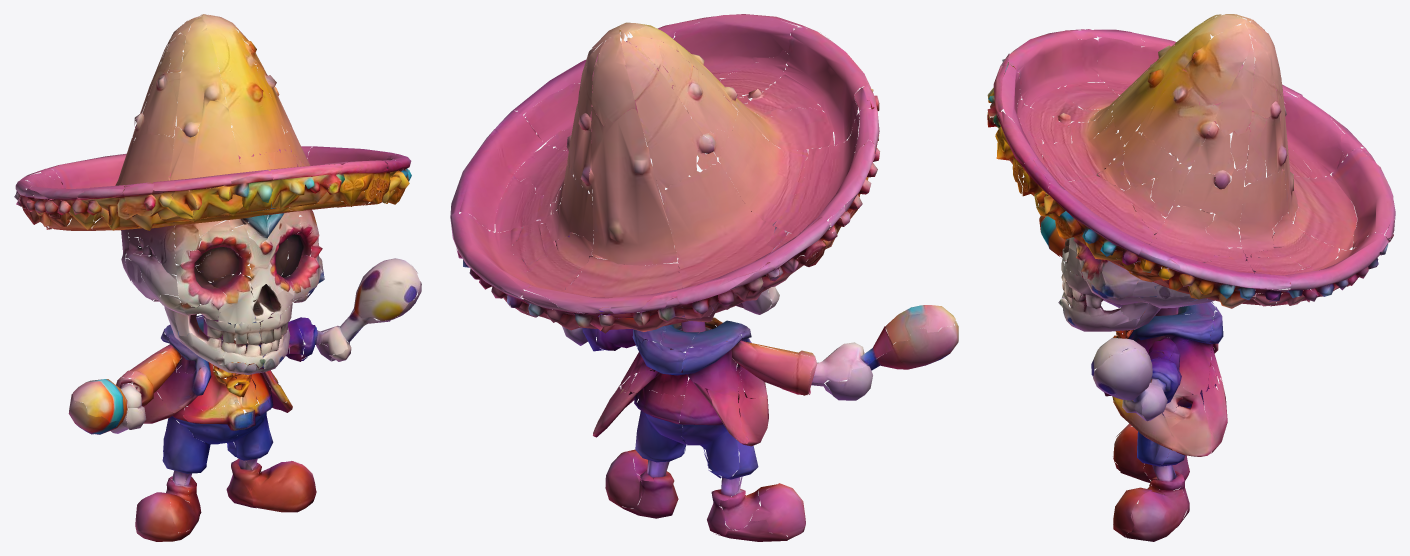
File: calavera.glb
The picture shows the model from 3 angles, left to right: view 1: azimuth 30°, elevation 25°; view 2: azimuth 150°, elevation 25°; view 3: azimuth 270°, elevation 25°; orthographic projection. The views are drawn at different scales.
Parts seen in each view (by area): view 1: tripo_node_b0849f14-d672-45c0-b650-cf7488660157; view 2: tripo_node_b0849f14-d672-45c0-b650-cf7488660157; view 3: tripo_node_b0849f14-d672-45c0-b650-cf7488660157.
Boxes of the visible parts, x1=… form: tripo_node_b0849f14-d672-45c0-b650-cf7488660157: x1=14, y1=14, x2=421, y2=541; tripo_node_b0849f14-d672-45c0-b650-cf7488660157: x1=450, y1=14, x2=958, y2=541; tripo_node_b0849f14-d672-45c0-b650-cf7488660157: x1=987, y1=14, x2=1395, y2=541.
Bounding box in the file's own units: 0.8242 × 0.9789 × 0.733.
Materials: 1 (1 with a texture image).
